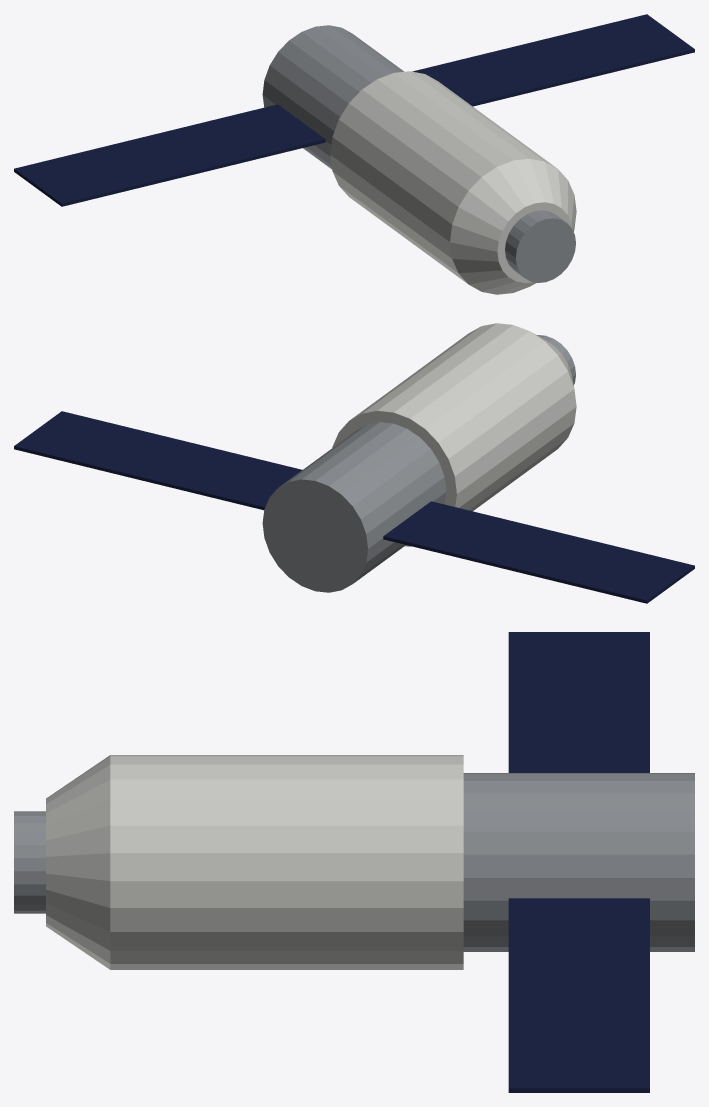
The model's file is cargo.glb.
3 views of the same model, one above another, from view 1: azimuth 30°, elevation 25°; view 2: azimuth 150°, elevation 25°; view 3: azimuth 270°, elevation 25° (orthographic). The views are drawn at different scales.
Bounding box in the file's own units: 16.8 × 3.36 × 10.6.
